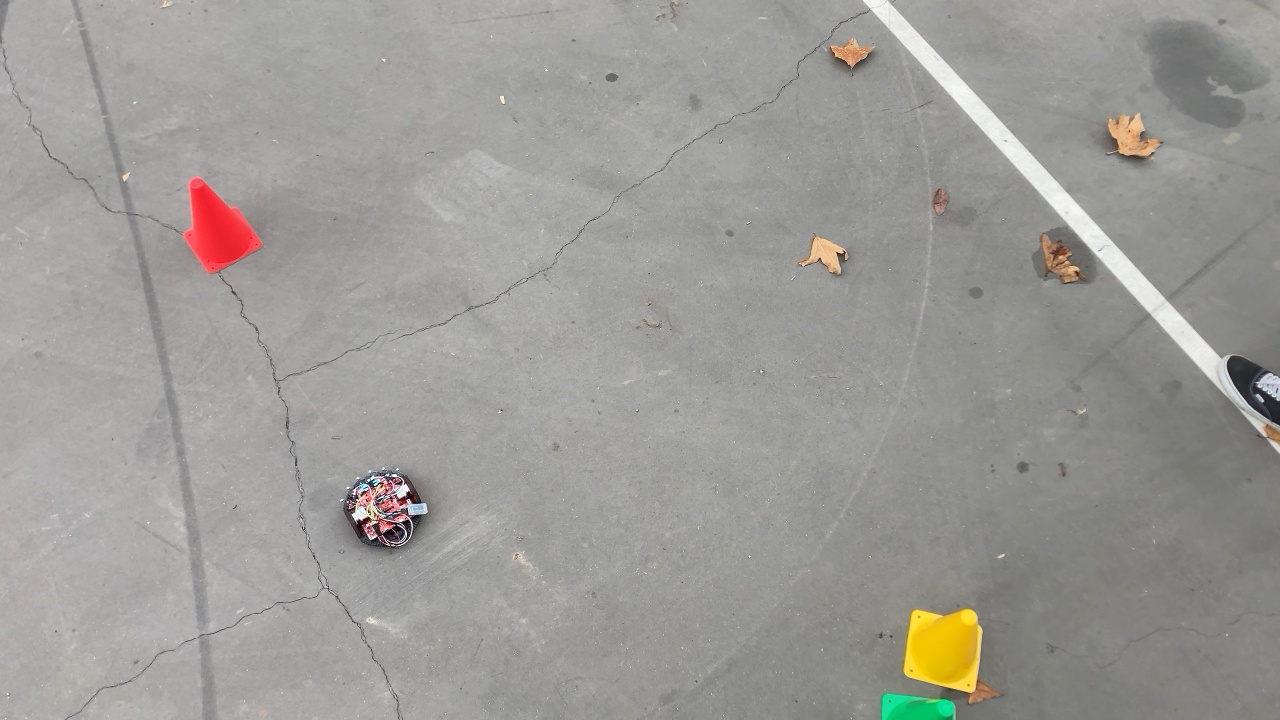green_cone: (876, 692, 963, 720)
red_cone: (181, 173, 266, 278)
robot: (338, 464, 433, 553)
yellow_cone: (898, 605, 988, 695)
